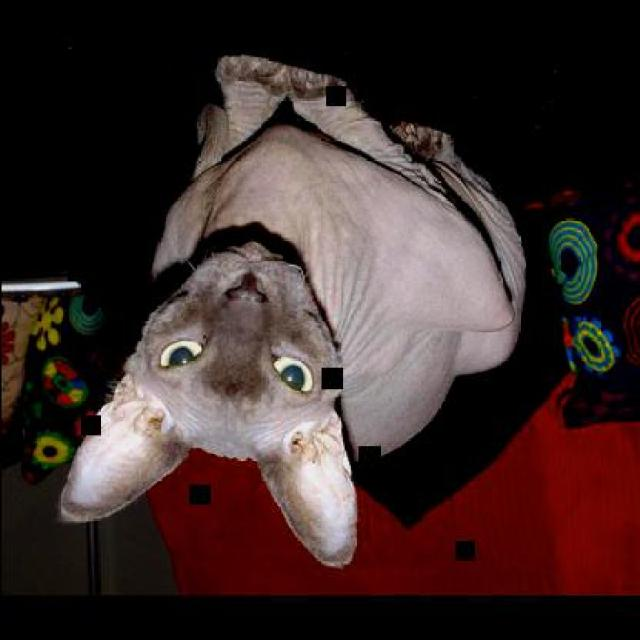unauthorized: (55, 52, 528, 570)
